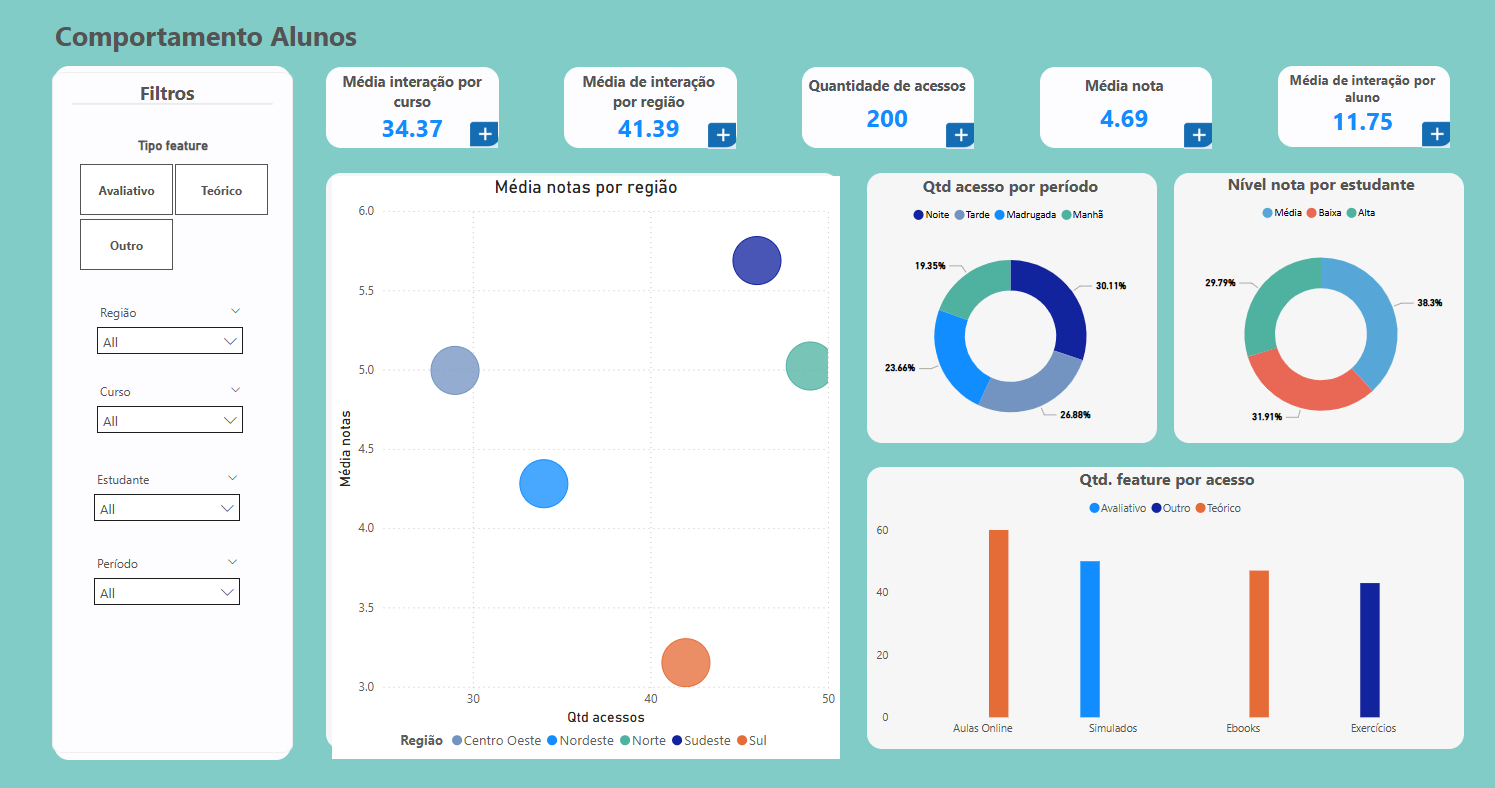

The page's visual inventory and layout, read from the dashboard file:
{"tool":"powerbi","page":{"name":"Comportamento","canvas":[1500,800],"ordinal":2},"visuals":[{"type":"image","title":"FF","box":[49,67,251,691],"z":0,"group":"g1"},{"type":"card","title":"Quantidade de acessos","fields":{"Values":["CountNonNull(powerbi_base_lms_2025-07-26.ID)"]},"box":[796,75,186,67],"z":0},{"type":"card","title":"Média interação por curso","fields":{"Values":["Avg(powerbi_base_lms_2025-07-26.interacoes_curso)"]},"box":[325,71,178,76],"z":1000},{"type":"card","title":"Média de interação por região","fields":{"Values":["Avg(powerbi_base_lms_2025-07-26.interacoes_regiao)"]},"box":[570,71,161,76],"z":2000},{"type":"group","id":"g1","title":"Group 1","box":[49,67,251,691],"z":3000},{"type":"card","title":"Média nota","fields":{"Values":["Avg(powerbi_base_lms_2025-07-26.nota_num)"]},"box":[1033,75,186,67],"z":4000},{"type":"textbox","box":[52,12,981,73],"z":5000},{"type":"slicer","fields":{"Values":["powerbi_base_lms_2025-07-26.Região"]},"box":[89,299,166,69],"z":5000,"group":"g1"},{"type":"donutChart","title":"Nível nota por estudante","fields":{"Category":["powerbi_base_lms_2025-07-26.nivel_nota"],"Y":["Count(powerbi_base_lms_2025-07-26.Estudante)"]},"box":[1181,173,284,274],"z":6000},{"type":"slicer","fields":{"Values":["powerbi_base_lms_2025-07-26.Curso"]},"box":[89,378,166,69],"z":6000,"group":"g1"},{"type":"slicer","fields":{"Values":["powerbi_base_lms_2025-07-26.Estudante"]},"box":[86,466,166,69],"z":7000,"group":"g1"},{"type":"clusteredColumnChart","title":"Qtd. feature por acesso","fields":{"Y":["CountNonNull(powerbi_base_lms_2025-07-26.ID)"],"Category":["powerbi_base_lms_2025-07-26.Feature"],"Series":["powerbi_base_lms_2025-07-26.tipo_feature"]},"box":[873,468,592,278],"z":7000},{"type":"slicer","title":"Tipo feature","fields":{"Values":["powerbi_base_lms_2025-07-26.tipo_feature"]},"box":[56,138,238,139],"z":8000,"group":"g1"},{"type":"slicer","fields":{"Values":["powerbi_base_lms_2025-07-26.periodo"]},"box":[86,550,166,69],"z":8000},{"type":"card","title":"Média de interação por aluno","fields":{"Values":["Avg(powerbi_base_lms_2025-07-26.interacoes_estudante)"]},"box":[1276,71,177,67],"z":9000},{"type":"scatterChart","title":"Média notas por região","fields":{"X":["CountNonNull(powerbi_base_lms_2025-07-26.ID)"],"Series":["powerbi_base_lms_2025-07-26.Região"],"Y":["powerbi_base_lms_2025-07-26.nota_num"]},"box":[334,176,508,583],"z":10000},{"type":"donutChart","title":"Qtd acesso por período","fields":{"Y":["CountNonNull(powerbi_base_lms_2025-07-26.ID)"],"Category":["powerbi_base_lms_2025-07-26.periodo"]},"box":[873,175,279,274],"z":11000},{"type":"textbox","box":[86.1,75,171.3,53],"z":12000,"group":"g1"}]}

Visuals, with their boxes in screenshot pixels (x1, y1, x2, y2), scaled from the page's 1500x800 canvas onto the 1495x788 screenshot:
"FF" image: [x1=49, y1=66, x2=299, y2=747]
"Quantidade de acessos" card: [x1=793, y1=74, x2=979, y2=140]
"Média interação por curso" card: [x1=324, y1=70, x2=501, y2=145]
"Média de interação por região" card: [x1=568, y1=70, x2=729, y2=145]
"Group 1" group: [x1=49, y1=66, x2=299, y2=747]
"Média nota" card: [x1=1030, y1=74, x2=1215, y2=140]
textbox: [x1=52, y1=12, x2=1030, y2=84]
slicer - powerbi_base_lms_2025-07-26.Região: [x1=89, y1=295, x2=254, y2=362]
"Nível nota por estudante" donutChart: [x1=1177, y1=170, x2=1460, y2=440]
slicer - powerbi_base_lms_2025-07-26.Curso: [x1=89, y1=372, x2=254, y2=440]
slicer - powerbi_base_lms_2025-07-26.Estudante: [x1=86, y1=459, x2=251, y2=527]
"Qtd. feature por acesso" clusteredColumnChart: [x1=870, y1=461, x2=1460, y2=735]
"Tipo feature" slicer: [x1=56, y1=136, x2=293, y2=273]
slicer - powerbi_base_lms_2025-07-26.periodo: [x1=86, y1=542, x2=251, y2=610]
"Média de interação por aluno" card: [x1=1272, y1=70, x2=1448, y2=136]
"Média notas por região" scatterChart: [x1=333, y1=173, x2=839, y2=748]
"Qtd acesso por período" donutChart: [x1=870, y1=172, x2=1148, y2=442]
textbox: [x1=86, y1=74, x2=257, y2=126]
